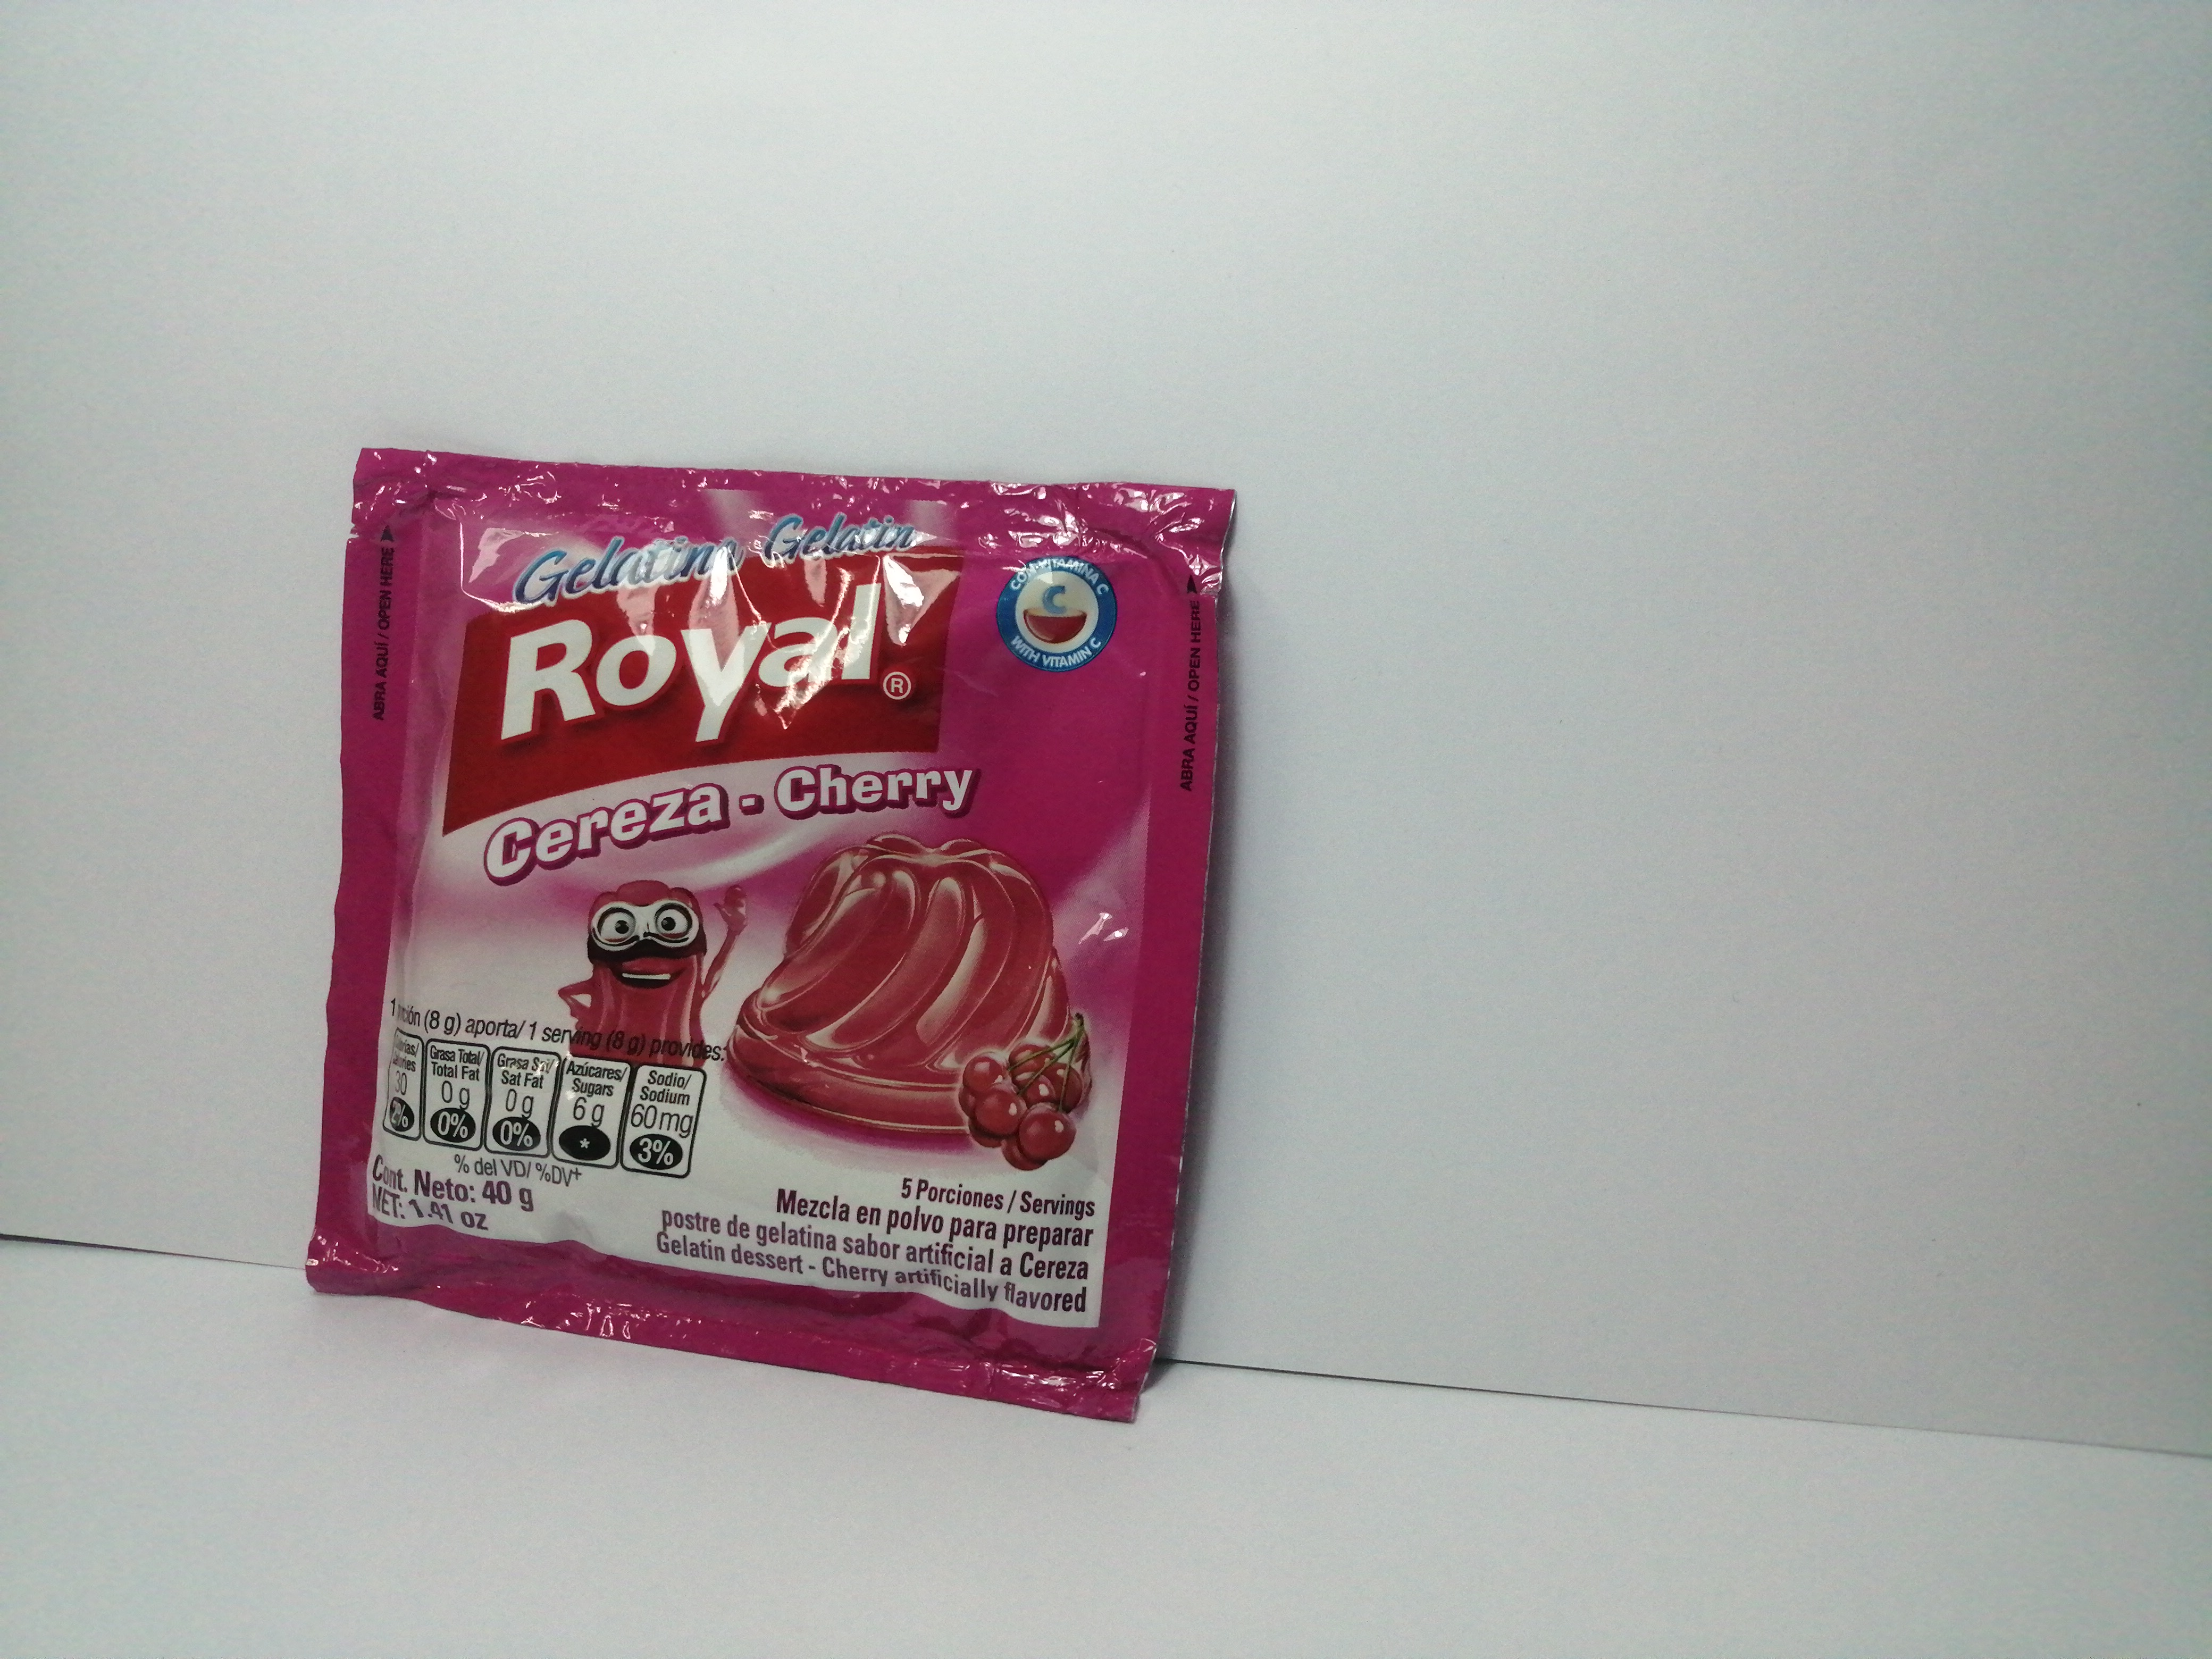gelatina: (303, 441, 1238, 1427)
